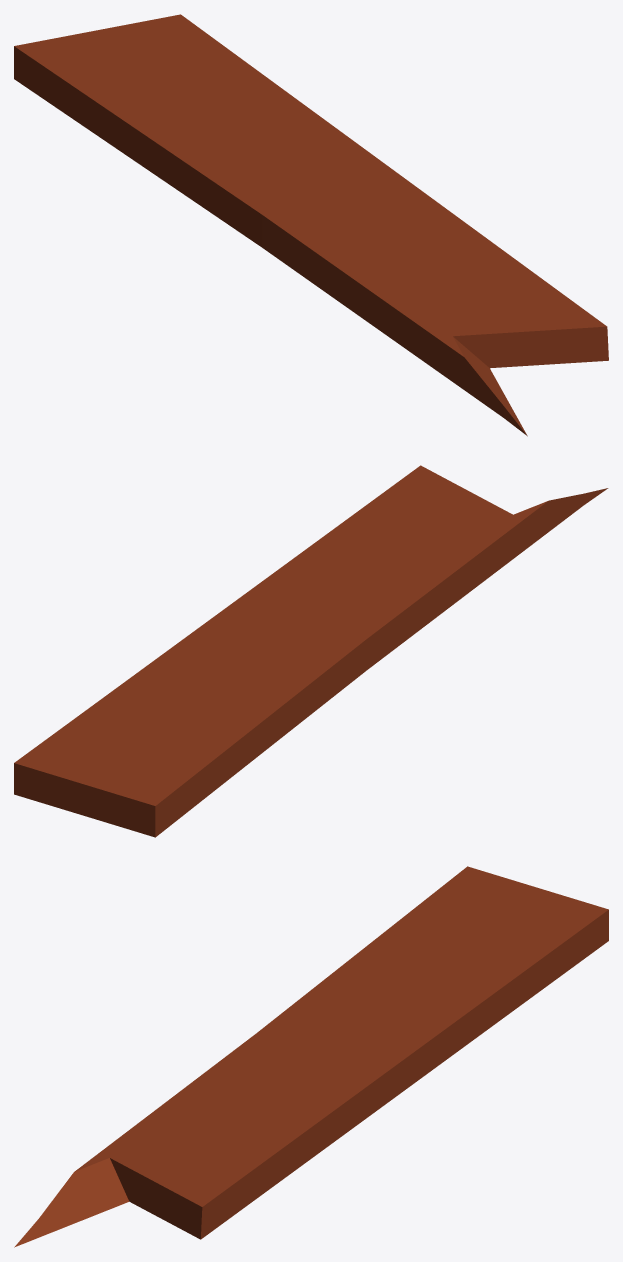
The model's file is BrokenPlanche2.fbx.
3 renders of one model, top to bottom at view 1: azimuth 30°, elevation 25°; view 2: azimuth 150°, elevation 25°; view 3: azimuth 330°, elevation 25°, orthographic. The views are drawn at different scales.
Visible parts, largest first — view 1: BrokenPlanche.002; view 2: BrokenPlanche.002; view 3: BrokenPlanche.002.
Boxes of the visible parts, x1,y1,x2,y2 form: BrokenPlanche.002: [14, 14, 608, 436]; BrokenPlanche.002: [14, 465, 608, 837]; BrokenPlanche.002: [14, 866, 608, 1247].
Bounding box in the file's own units: 193 × 38.61 × 1050.
